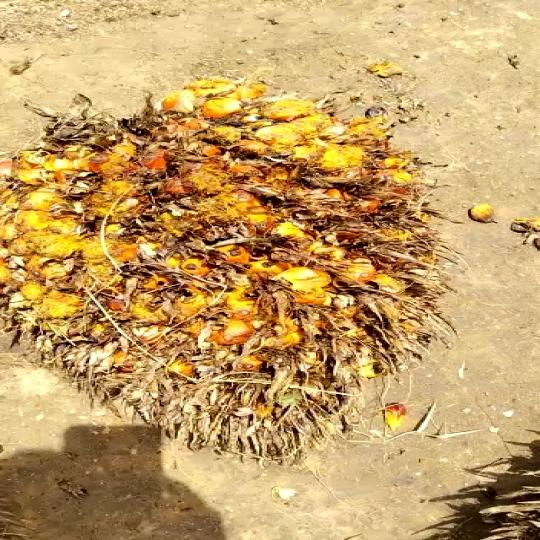terlalu masak: (0, 72, 462, 462)
